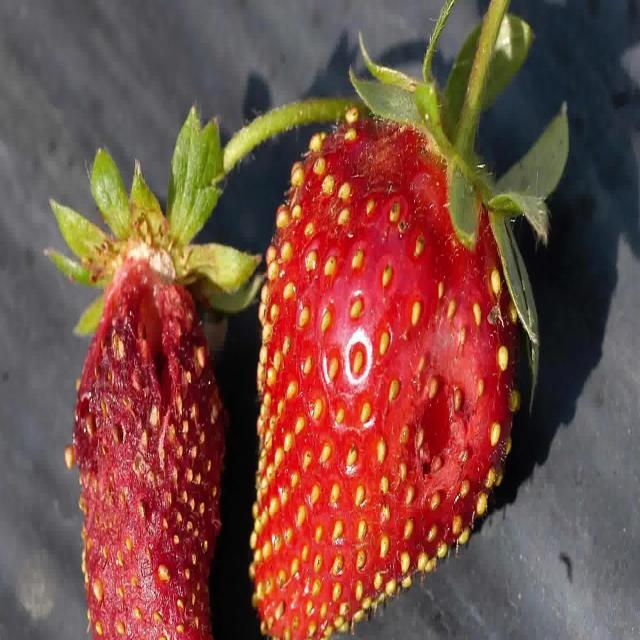Mancha negra Antracnosis: (266, 69, 536, 628), (46, 221, 232, 632)
